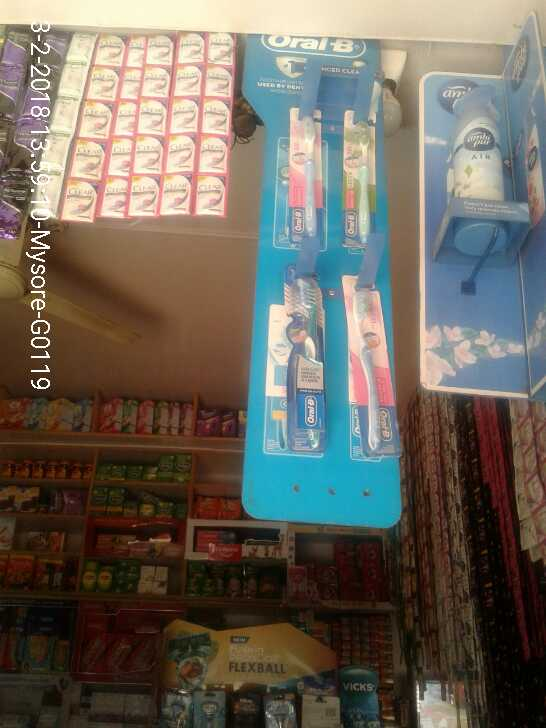home: (444, 80, 518, 198)
pharmacy: (277, 278, 336, 453), (345, 270, 395, 458), (280, 111, 338, 263), (352, 145, 373, 250)
